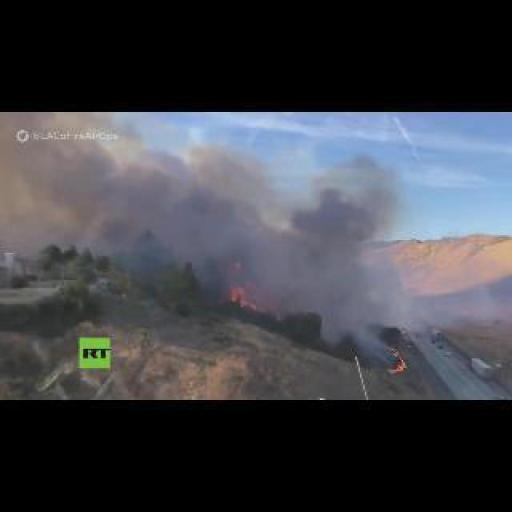smoke: (6, 117, 404, 307), (227, 285, 259, 310), (384, 346, 406, 372)
